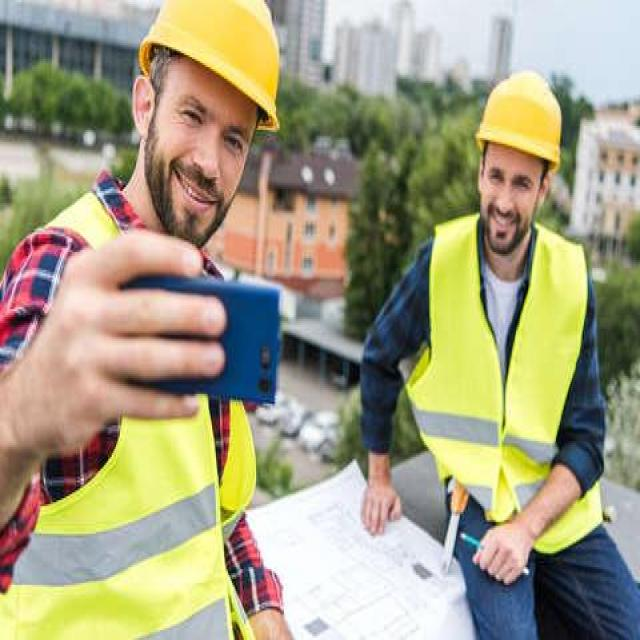Reflective-Jacket: (3, 185, 260, 638), (407, 221, 608, 554)
Safety-Helmet: (132, 0, 287, 126), (474, 63, 566, 169)
